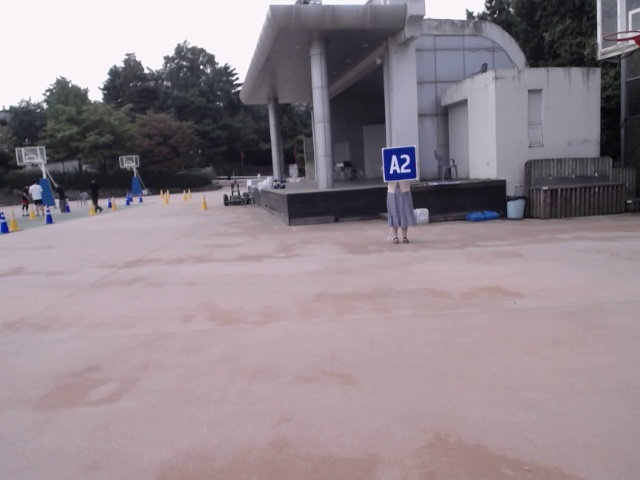delivery_a2: (383, 145, 418, 182)
